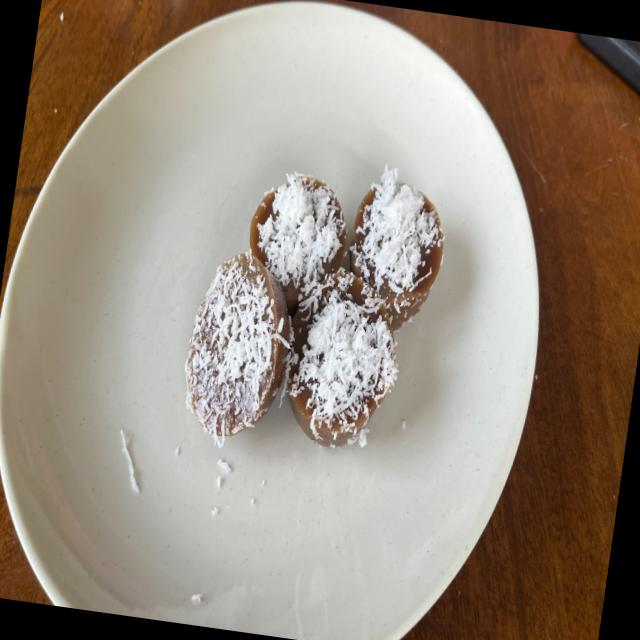Kuih lompang: (186, 252, 290, 445), (287, 269, 398, 447), (349, 166, 443, 331), (250, 173, 346, 314)
